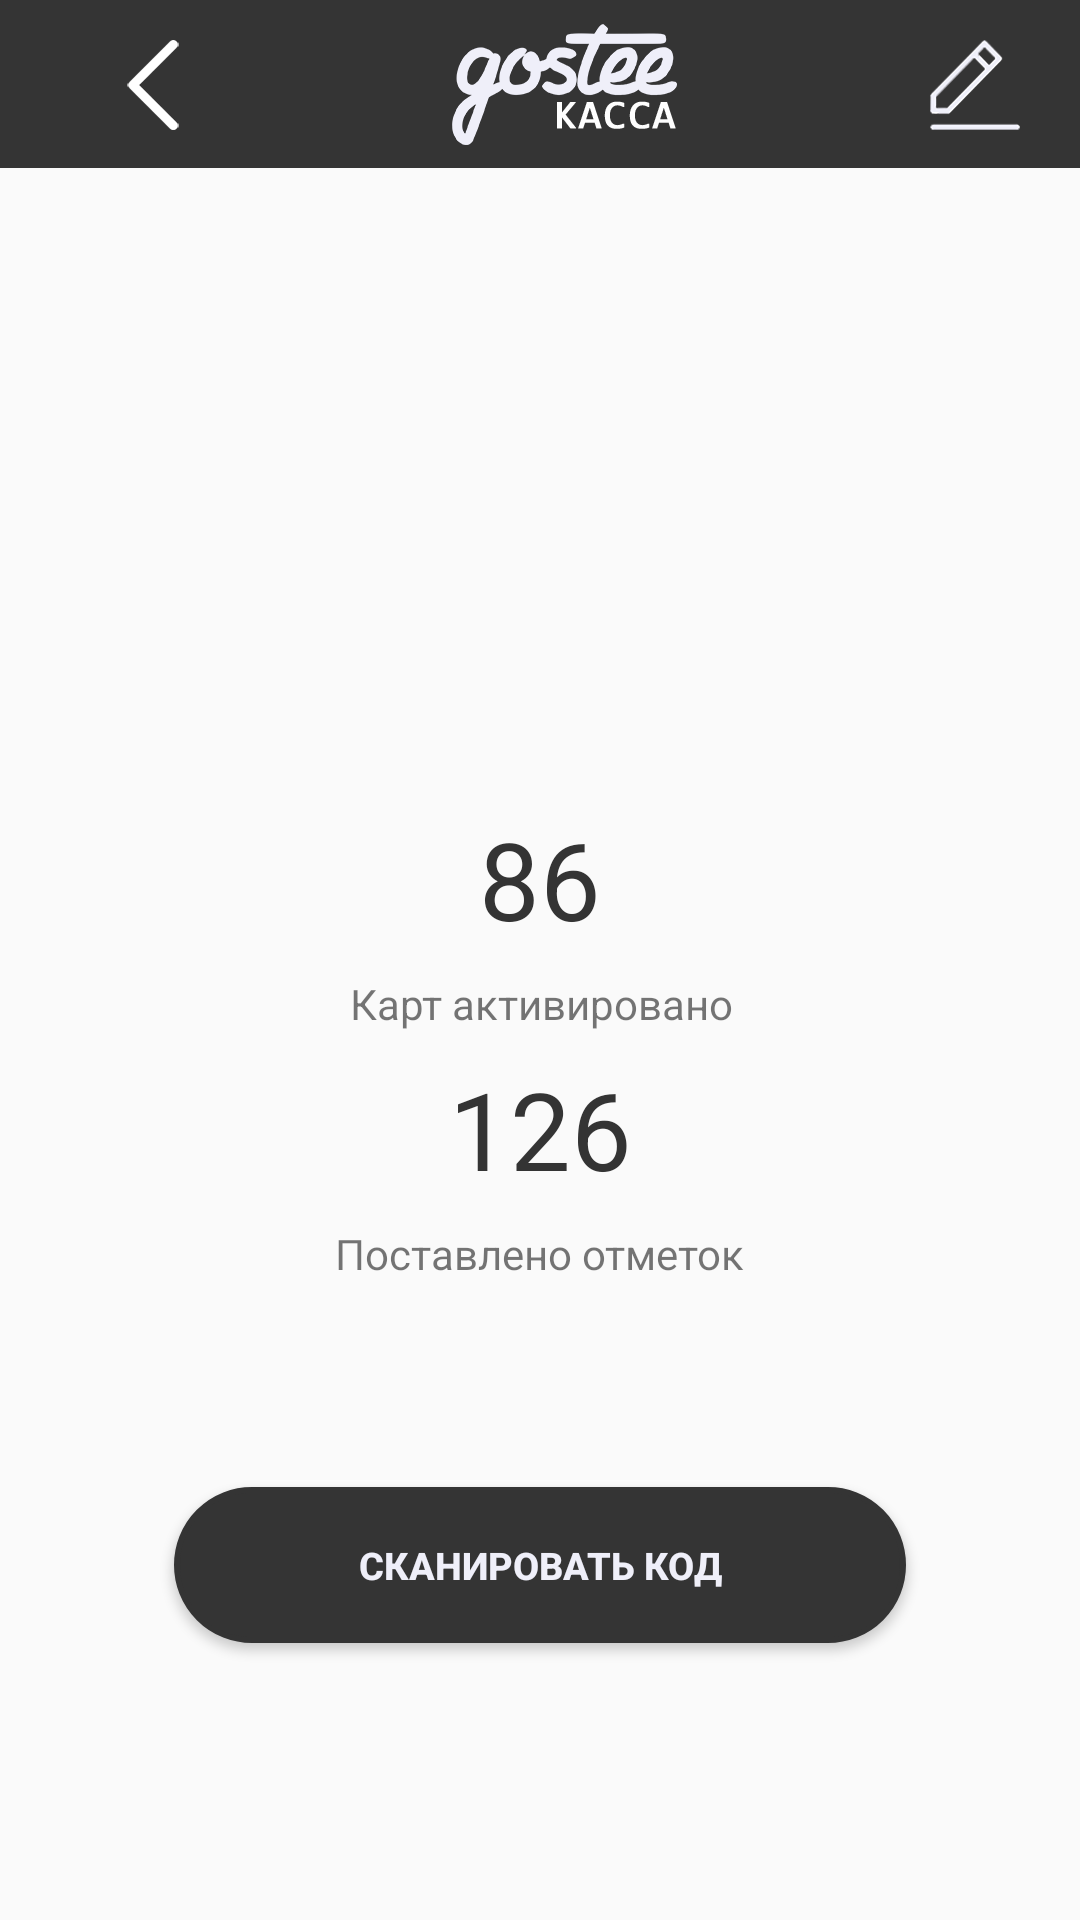

Icon click points for this 1080px x 1920px phone screenshot, format point (x, y):
back: point (153, 85)
btnedit: point (975, 85)
